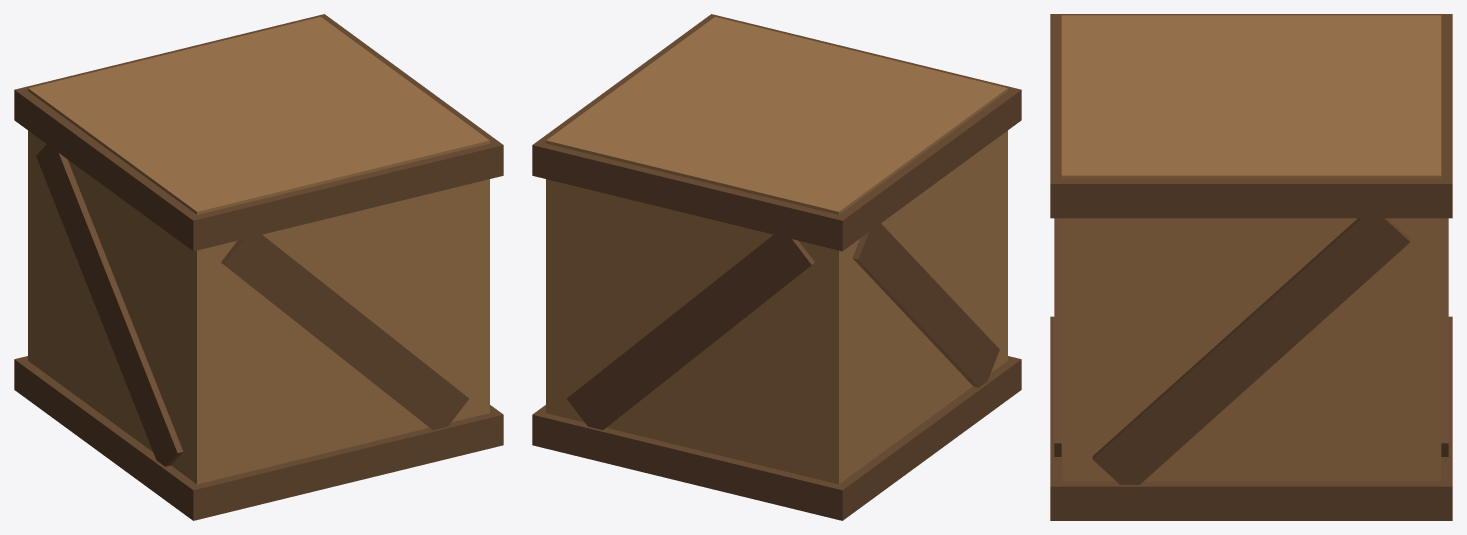
Rendered from crate.glb.
3 views of the same model, side by side, from view 1: azimuth 30°, elevation 25°; view 2: azimuth 150°, elevation 25°; view 3: azimuth 270°, elevation 25° (orthographic). The views are drawn at different scales.
Parts seen in each view (by area): view 1: crate; view 2: crate; view 3: crate.
Boxes of the visible parts, left/top/right/bottom form: crate: left=14, top=14, right=503, bottom=520; crate: left=532, top=14, right=1021, bottom=520; crate: left=1050, top=14, right=1452, bottom=520.
Bounding box in the file's own units: 1.06 × 1 × 1.06.
